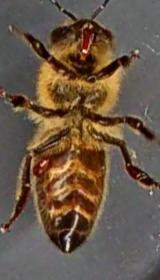varroa_mite: (24, 145, 71, 186)
